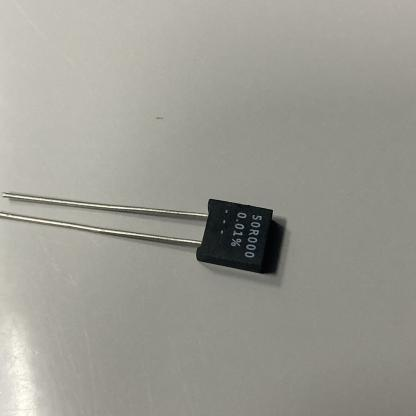SP0000008: (0, 136, 306, 329)
